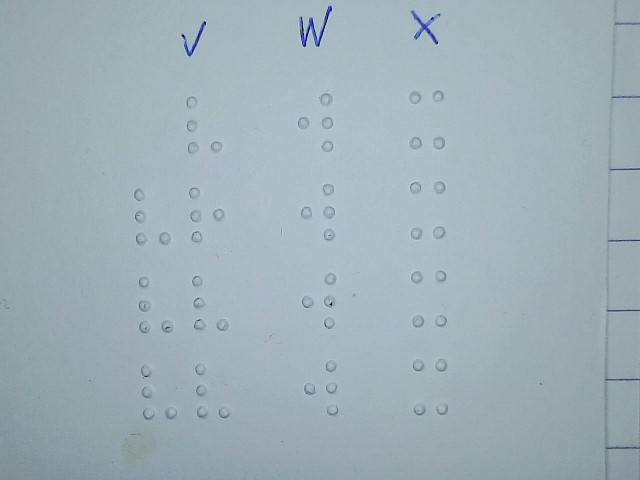V: (185, 93, 224, 156), (133, 185, 172, 248), (191, 271, 230, 334), (194, 359, 233, 422), (139, 360, 178, 423)
W: (296, 90, 335, 153), (299, 178, 338, 241), (299, 269, 338, 332), (302, 355, 341, 418)
X: (408, 87, 447, 150), (409, 177, 448, 240), (410, 267, 449, 330), (411, 354, 450, 417)
